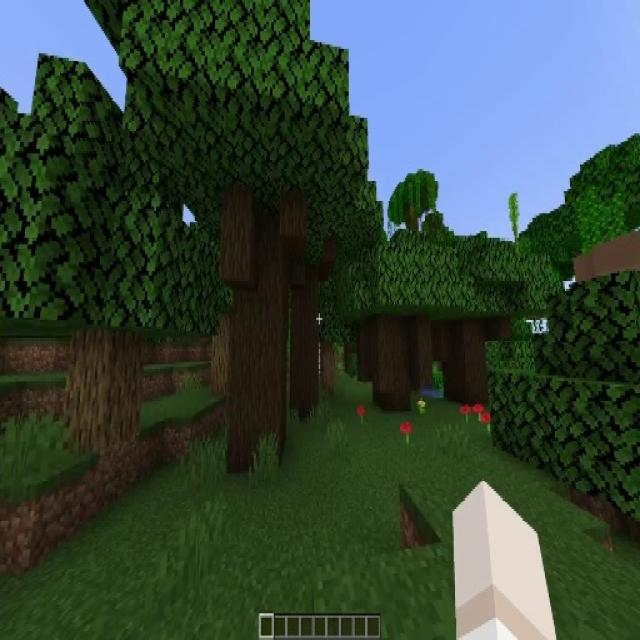dark_oak: (156, 18, 348, 468), (252, 126, 361, 414), (354, 233, 430, 408), (428, 236, 504, 407)
dark_oak_log: (227, 189, 289, 461), (366, 318, 424, 404), (287, 278, 322, 413), (438, 320, 488, 401)
jungle: (386, 170, 438, 234)
oak: (0, 59, 221, 455)
oak_log: (64, 330, 141, 456)
